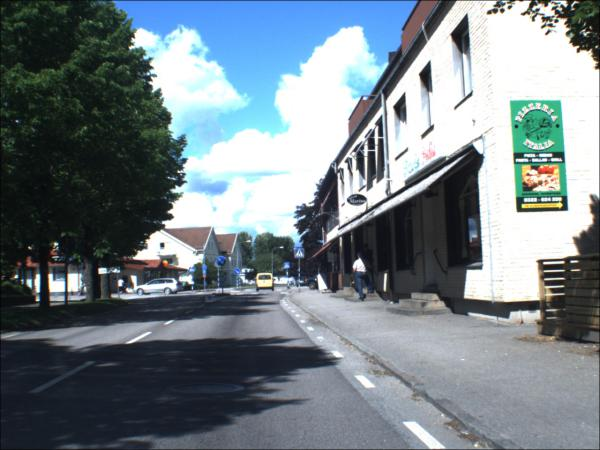PASS_RIGHT_SIDE: (218, 256, 229, 268), (235, 269, 242, 276)
PEDESTRIAN_CROSSING: (296, 249, 307, 260), (286, 263, 292, 270), (190, 268, 197, 274)
